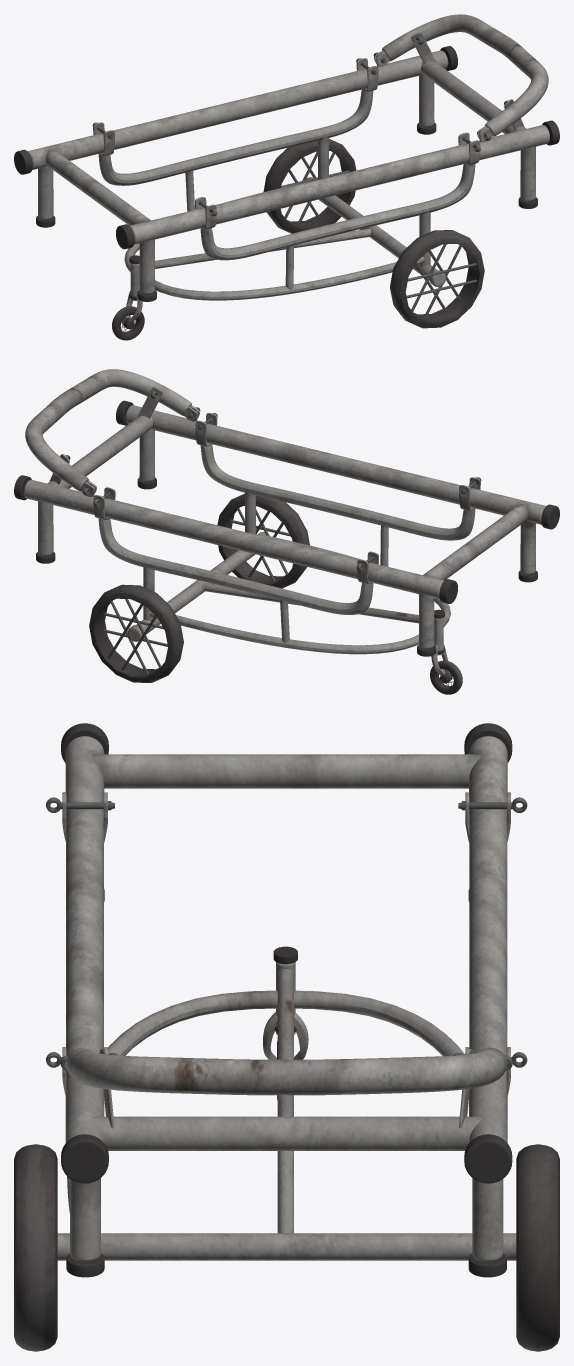
Rendered from Gurney_MeshVariant4.fbx.
The picture shows the model from 3 angles, top to bottom: view 1: azimuth 30°, elevation 25°; view 2: azimuth 150°, elevation 25°; view 3: azimuth 270°, elevation 25°; orthographic projection. The views are drawn at different scales.
Visible parts, largest first — view 1: Gurney_Variation4; view 2: Gurney_Variation4; view 3: Gurney_Variation4.
Boxes of the visible parts, left/top/right/bottom form: Gurney_Variation4: left=14, top=14, right=559, bottom=340; Gurney_Variation4: left=14, top=369, right=559, bottom=694; Gurney_Variation4: left=14, top=723, right=559, bottom=1351.
Bounding box in the file's own units: 234 × 104 × 125.
